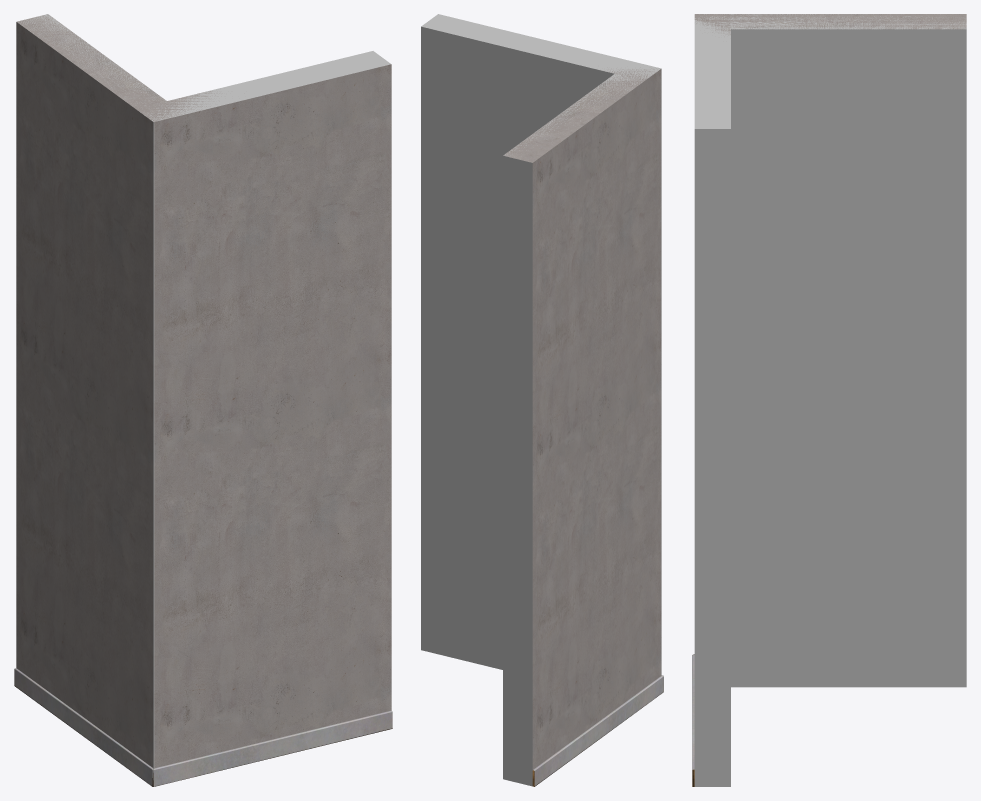
The model's file is SM_Wall_CornerOut_1_5x3_5_01a.fbx.
3 views of the same model, side by side, from view 1: azimuth 30°, elevation 25°; view 2: azimuth 150°, elevation 25°; view 3: azimuth 270°, elevation 25° (orthographic). The views are drawn at different scales.
Parts seen in each view (by area): view 1: SM_Wall_CornerOut_1_5x3_5_01a, SM_Wall_CornerOut_1_5x3_5_01a_ConvexHulls; view 2: SM_Wall_CornerOut_1_5x3_5_01a, SM_Wall_CornerOut_1_5x3_5_01a_ConvexHulls; view 3: SM_Wall_CornerOut_1_5x3_5_01a_ConvexHulls, SM_Wall_CornerOut_1_5x3_5_01a.
Part boxes in pixels (bbox=[...]): SM_Wall_CornerOut_1_5x3_5_01a: bbox=[14, 14, 392, 786]; SM_Wall_CornerOut_1_5x3_5_01a_ConvexHulls: bbox=[18, 14, 390, 768]; SM_Wall_CornerOut_1_5x3_5_01a: bbox=[503, 67, 663, 786]; SM_Wall_CornerOut_1_5x3_5_01a_ConvexHulls: bbox=[421, 14, 661, 786]; SM_Wall_CornerOut_1_5x3_5_01a_ConvexHulls: bbox=[694, 14, 966, 786]; SM_Wall_CornerOut_1_5x3_5_01a: bbox=[692, 14, 966, 786].
Bounding box in the file's own units: 151 × 151 × 400.
